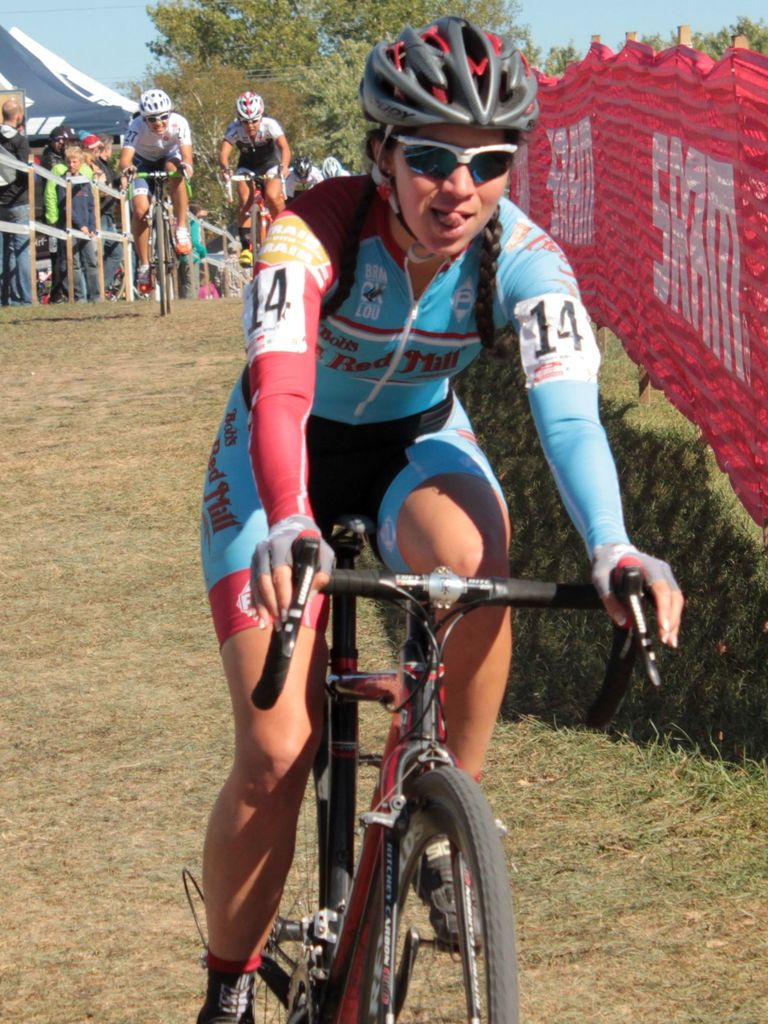Bike_toward: (216, 553, 707, 1024)
